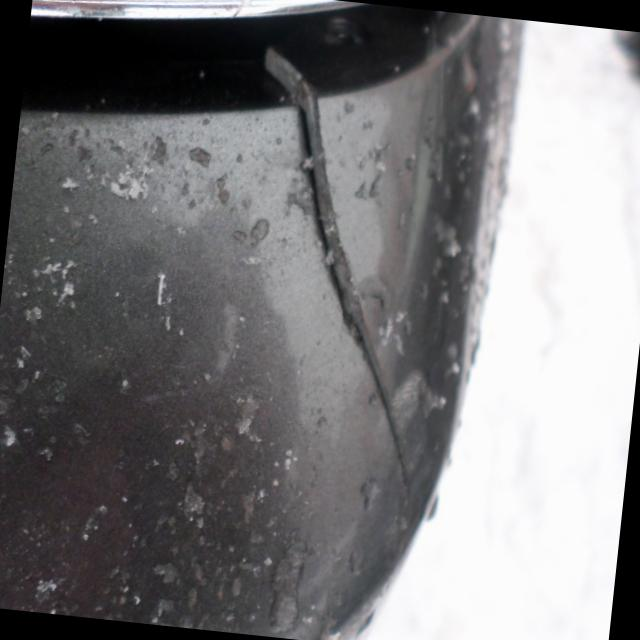Dechirure: (212, 51, 464, 527)
